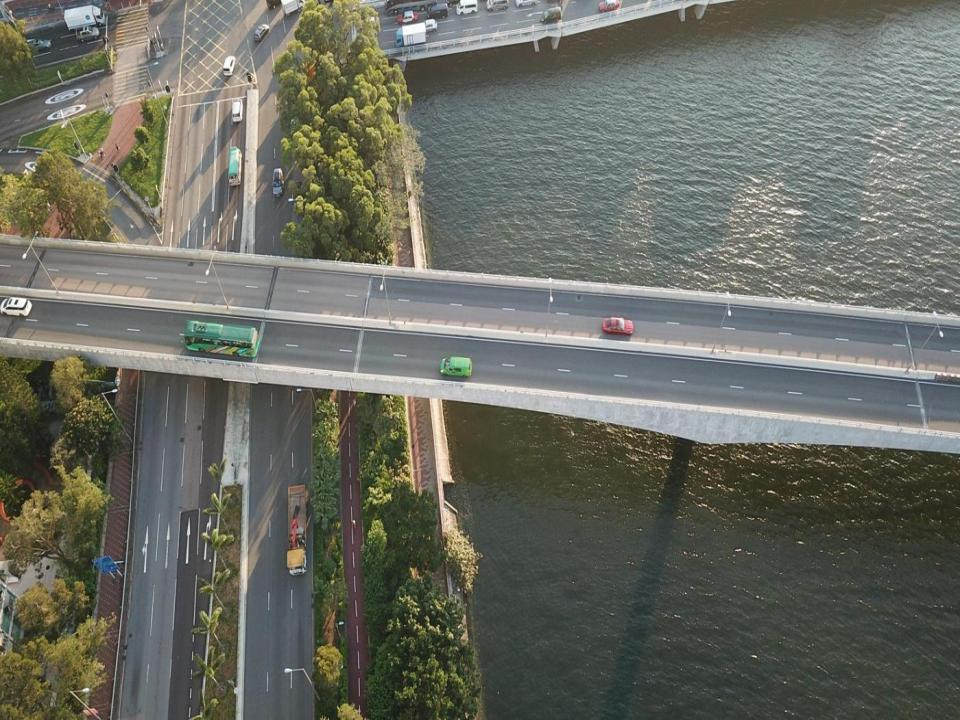bus: (181, 319, 260, 357), (383, 0, 447, 14), (228, 147, 242, 186)
car: (0, 298, 33, 317), (440, 357, 472, 376), (602, 317, 634, 336), (75, 26, 100, 43), (292, 180, 303, 211), (253, 22, 270, 42), (597, 0, 619, 14), (396, 11, 418, 23), (26, 40, 51, 50), (223, 55, 235, 75), (422, 18, 437, 32), (513, 0, 539, 7)
truck: (287, 484, 308, 577), (64, 4, 105, 30), (395, 23, 427, 49), (281, 0, 309, 16)
van: (540, 6, 562, 23), (456, 0, 478, 16), (427, 2, 447, 19), (272, 167, 283, 196), (230, 98, 243, 121), (485, 0, 509, 11)
